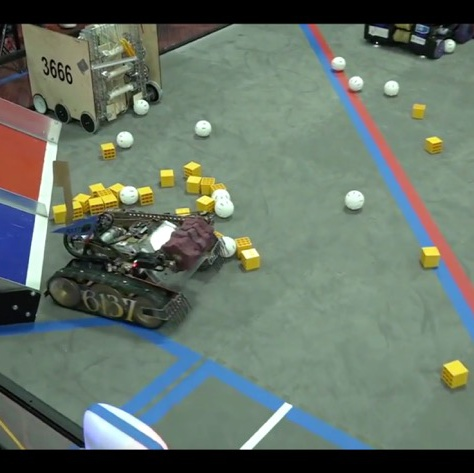robot: (44, 206, 234, 329), (22, 17, 167, 131), (358, 22, 474, 59)
